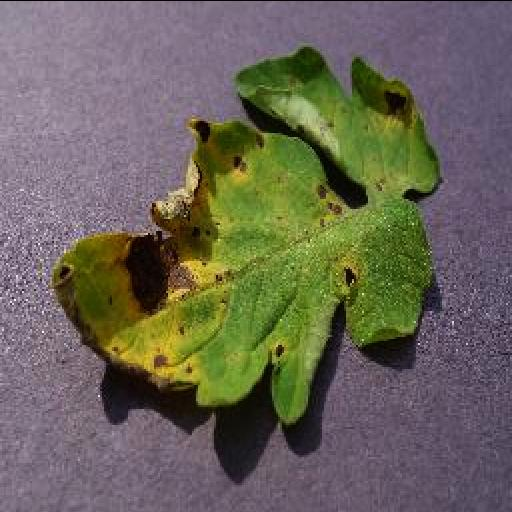disease_tomato: (52, 45, 448, 426)
